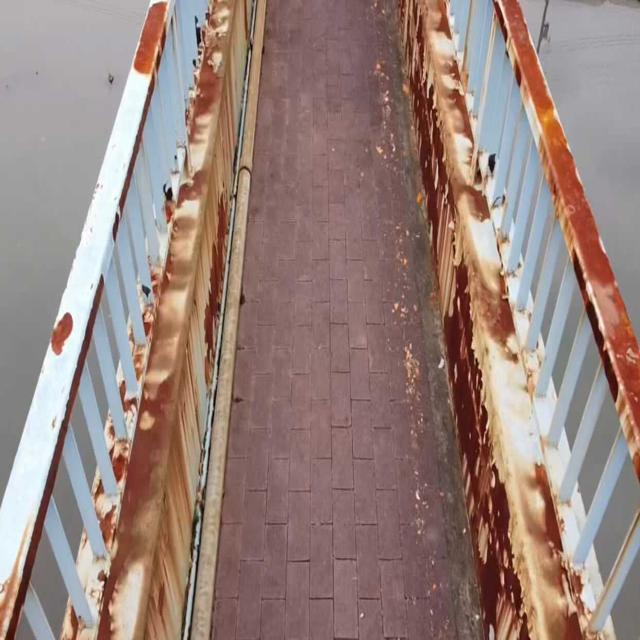corrosion: (6, 14, 263, 640), (394, 13, 633, 640)
